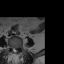CCS_normal: (14, 45, 16, 54)
LFS_stenosis: (18, 44, 20, 51)
LLS_normal: (16, 45, 18, 53)
RFS_stenosis: (10, 44, 12, 50)
RLS_normal: (12, 45, 14, 53)
